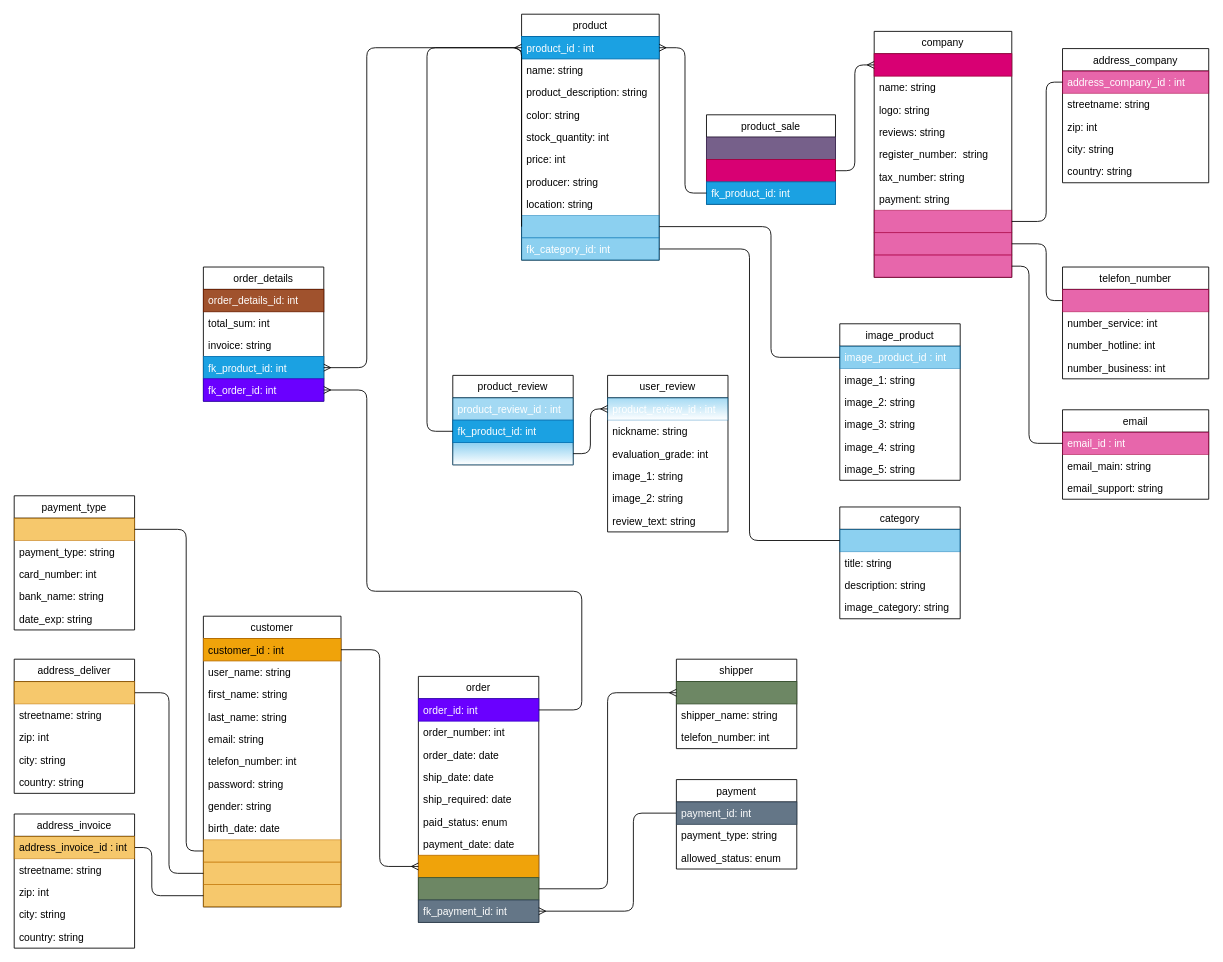
Image size: 1223x962. Some labels were removed from this diagram. Here are the shapes that lost their labels. From the top down, the centre of each, then its label:
At point 942,64: "company_id : int".
At point 770,148: "product_sale_id : int".
At point 770,170: "fk_company_id: int".
At point 590,226: "fk_image_product_id: int".
At point 942,221: "fk_address_company_id: int".
At point 942,243: "fk_telefon_number_id: int".
At point 942,265: "fk_email_id: int".
At point 1135,300: "telefon_number_id : int".
At point 512,453: "fk_user_review_id: int".
At point 74,529: "payment_type_id : int".
At point 899,540: "category_id : int".
At point 74,692: "address_deliver_id : int".
At point 736,692: "shipper_id: int".
At point 272,850: "fk_payment_type_id: int".
At point 478,866: "fk_customer_id: int".
At point 272,873: "fk_address_deliver_id: int".
At point 478,888: "fk_shipper_id: int".
At point 272,895: "fk_address_invoice_id: int".
